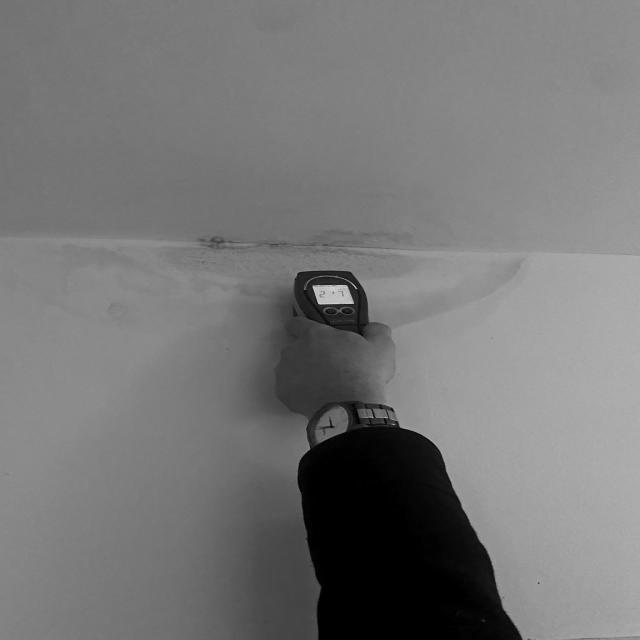stain marks: (15, 164, 559, 332)
